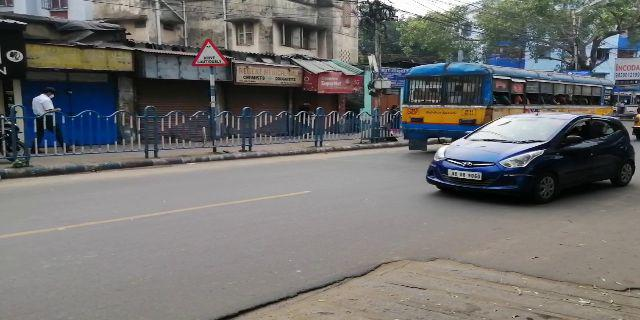Bus: (398, 65, 622, 118)
Car: (428, 115, 640, 191)
